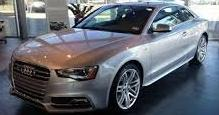Cars: (11, 4, 208, 112)
